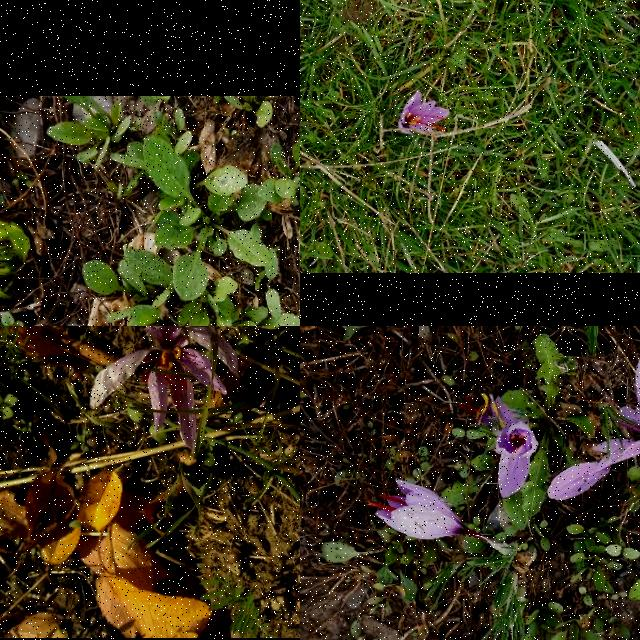flower: (90, 326, 240, 454), (367, 480, 468, 540), (494, 422, 540, 500), (399, 90, 451, 136)
